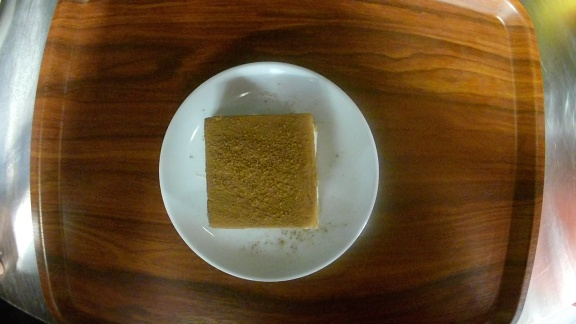tiramisu: (159, 62, 380, 283)
